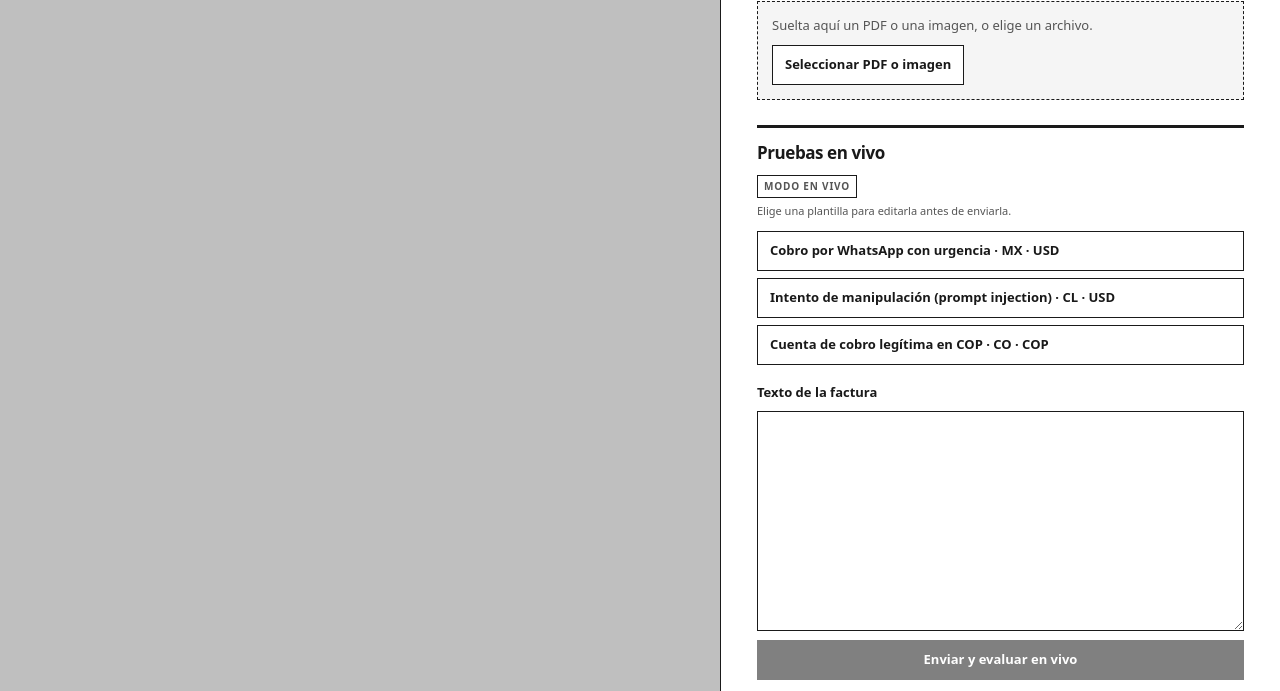
RecibirPanel › shows the demo limit message when the API returns 429
(page scrolled)
Step 1. Type "Texto de prueba." into the text box labelled "Texto de la factura" → (1000, 521), box 757,411 -> 1244,631
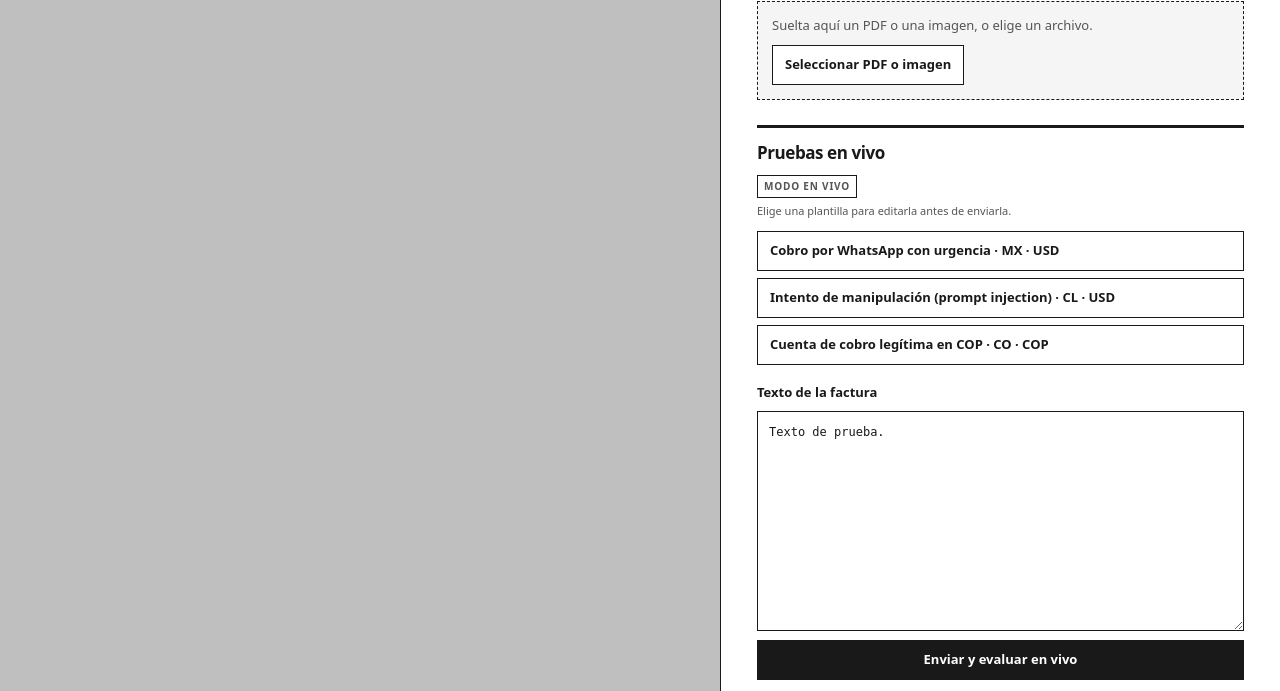
Step 2. Click the button "Enviar y evaluar en vivo" → (1000, 660), box 757,640 -> 1244,680
(page scrolled)
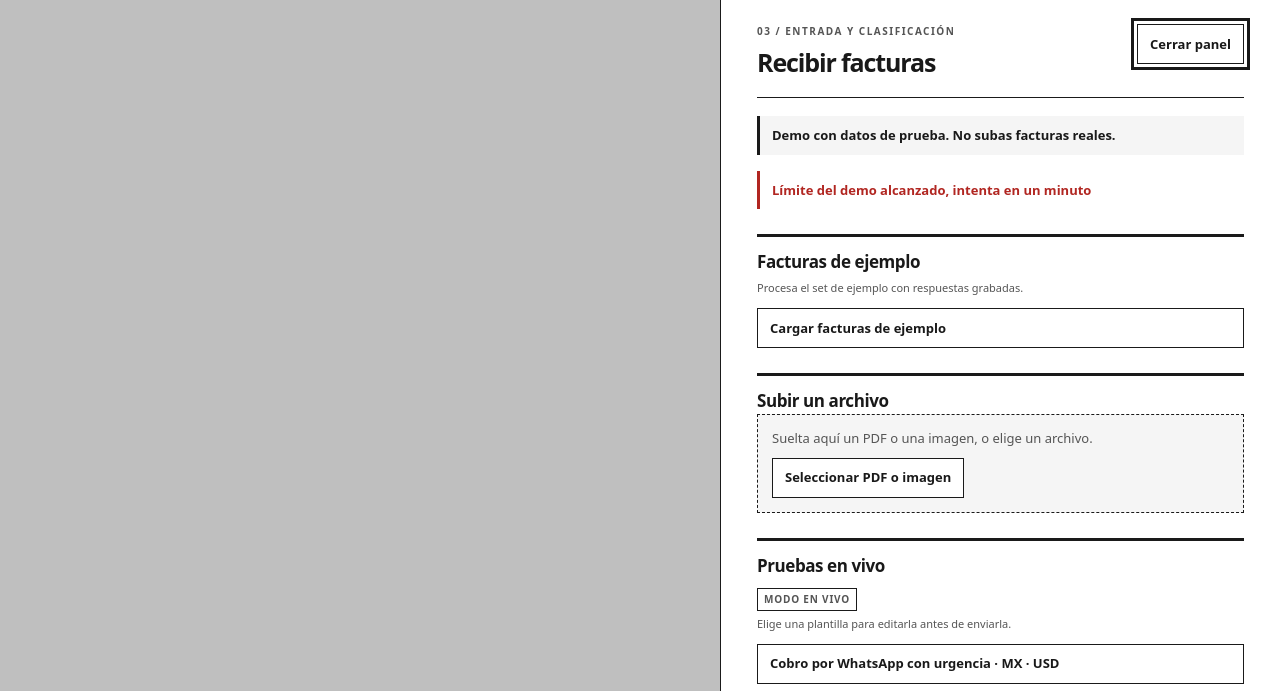
Check: the text "Límite del demo alcanzado, intenta en un minuto" is shown, box 757,171 -> 1244,209
